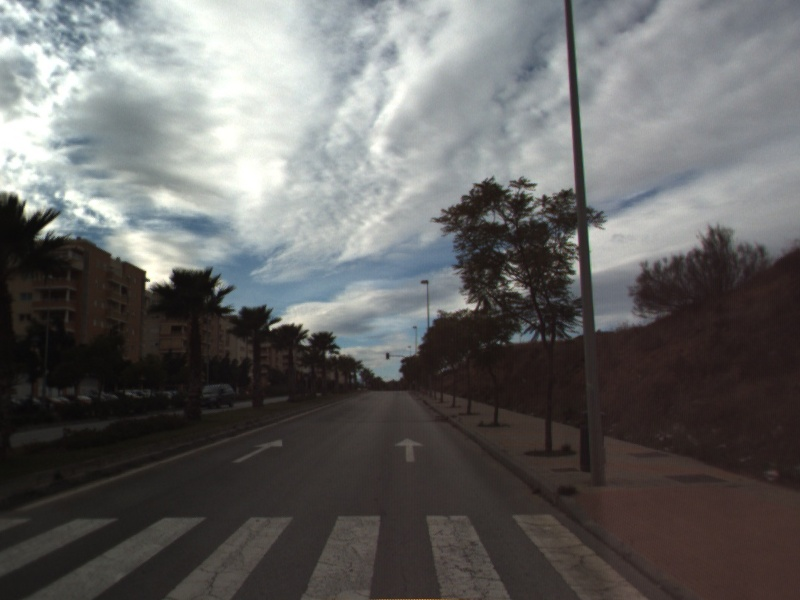STRAIGHT: (230, 437, 285, 465), (393, 436, 426, 464)
